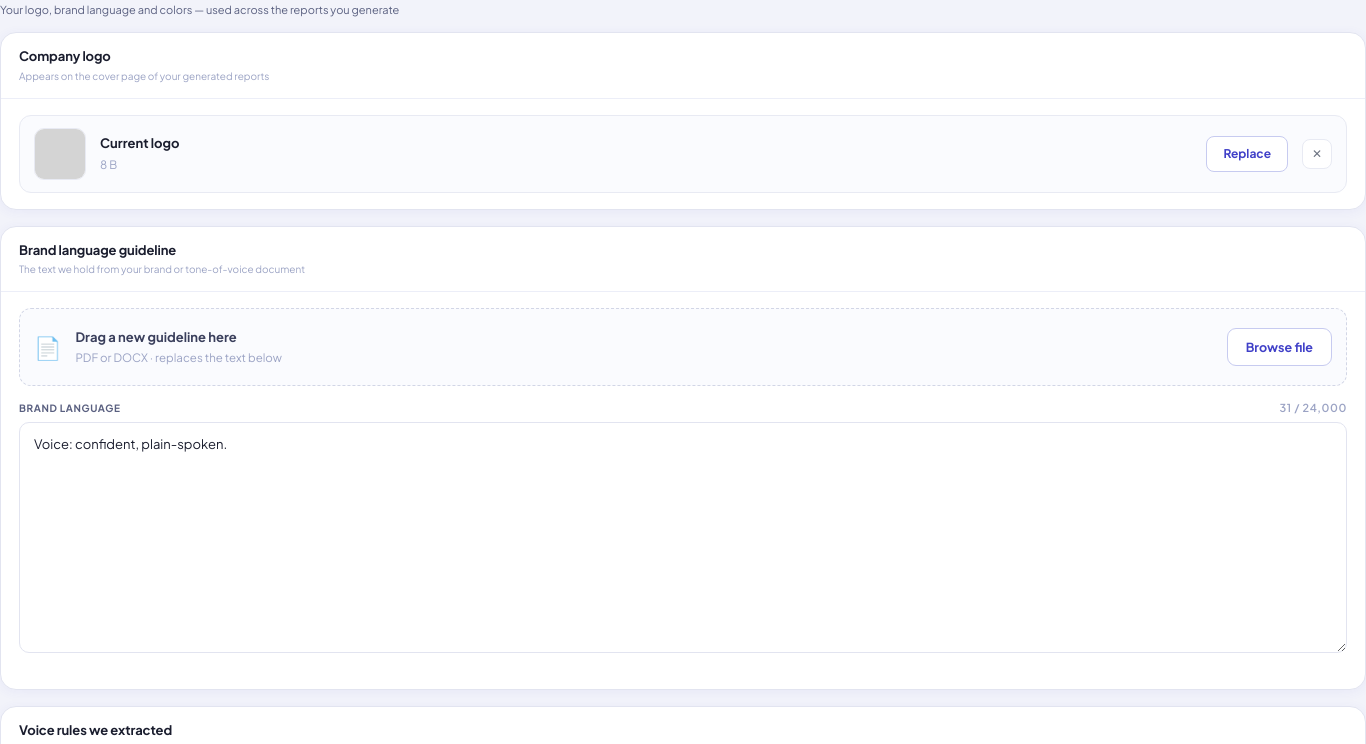
Scenario: Brand Identity page — the save payload › re-baselines after a save, so Save goes back to disabled
The width and height of the screenshot is (1366, 744).
Replace the text in the text box with placeholder "Upload a document above, or write your brand language here." with "Voice: warm.". click: (683, 538)
box: left=19, top=422, right=1347, bottom=654
(page scrolled)
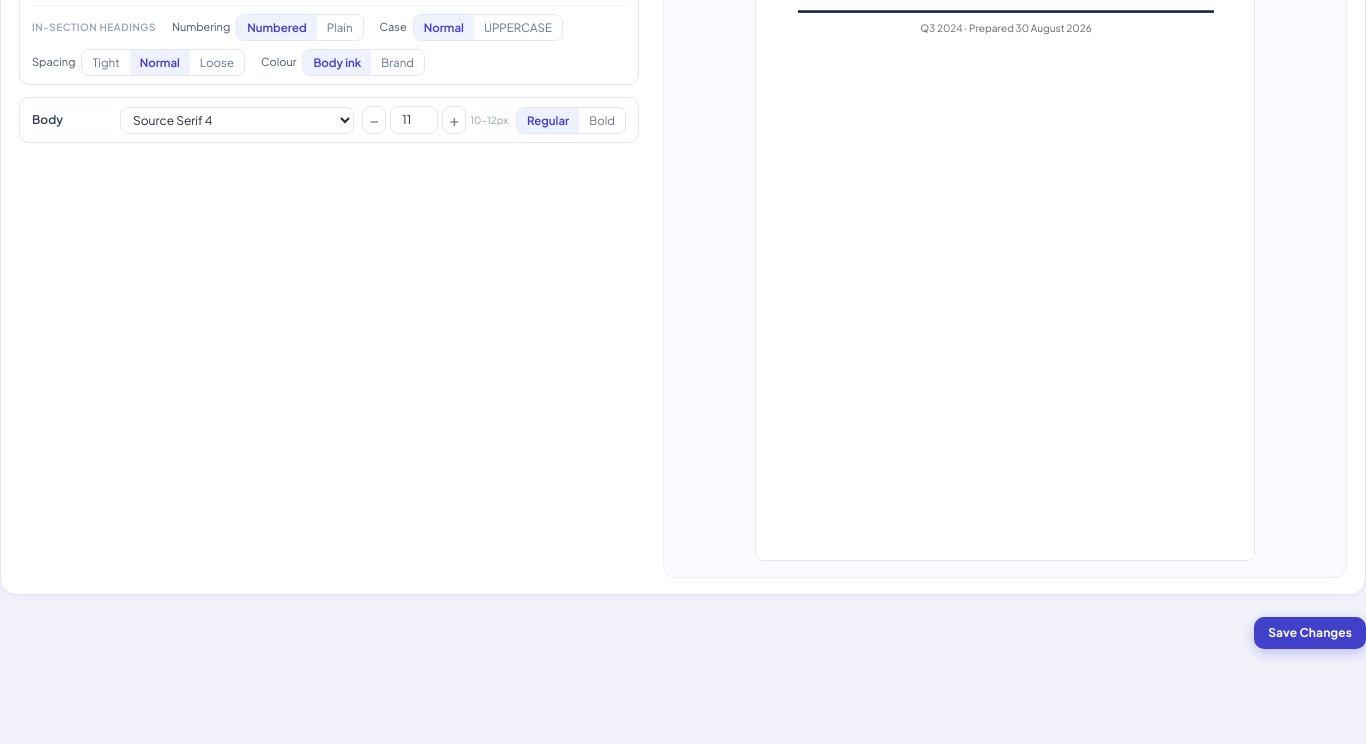
Click the button "Save Changes". click: (1310, 632)
box: left=1254, top=616, right=1365, bottom=648
(page scrolled)
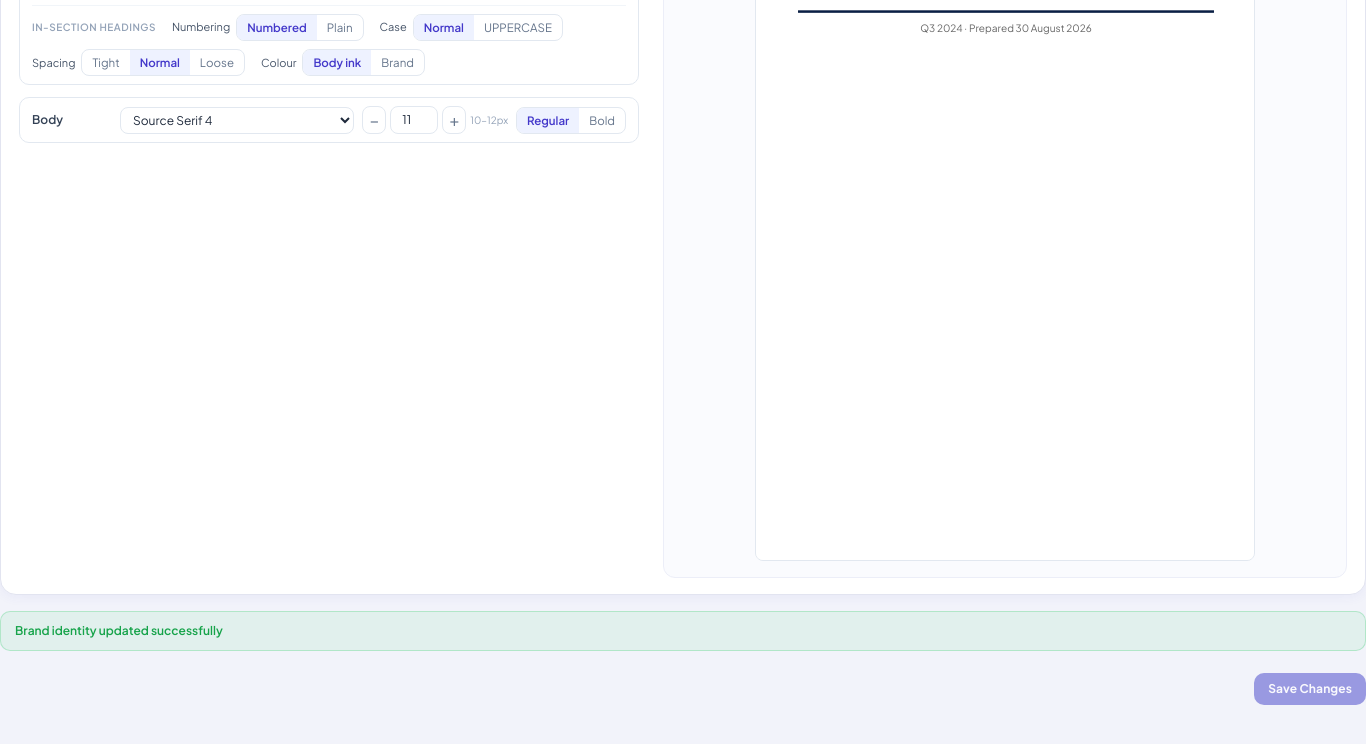
Now the text "Brand identity updated successfully" is shown, box left=0, top=611, right=1365, bottom=651
Now the button "Save Changes" is disabled, box left=1254, top=673, right=1365, bottom=705
